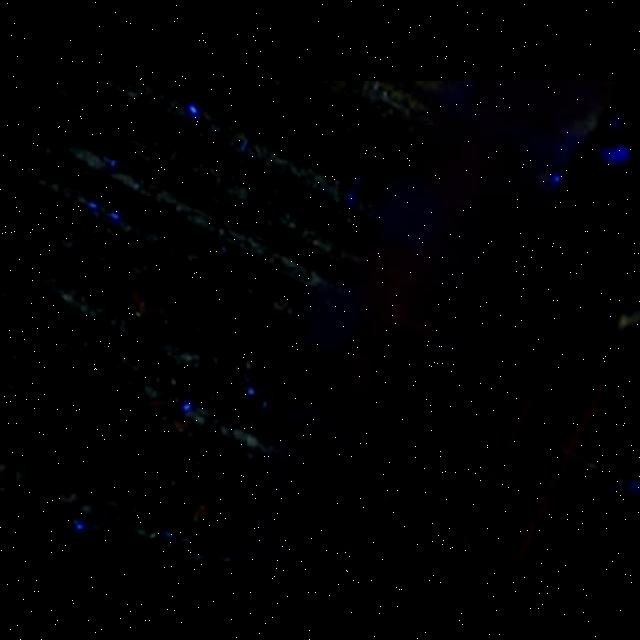microbeads: (616, 306, 640, 332)
